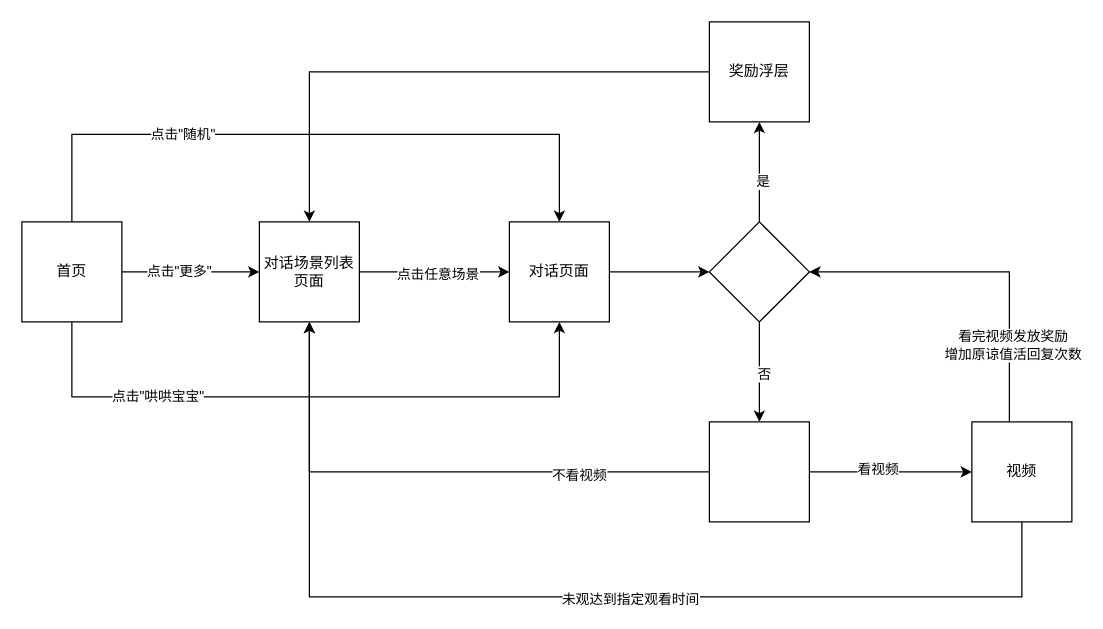
Some shapes in this 1103 by 629 pixel diagram are drawn without their labels. The shapes that lost their labels are listed below. From the top down, each one's box as (x1, y1, x2, y2) in pixels, then its label:
(708, 221, 809, 322): 是否挑战成功
(708, 421, 809, 522): 引导观看视频浮层
